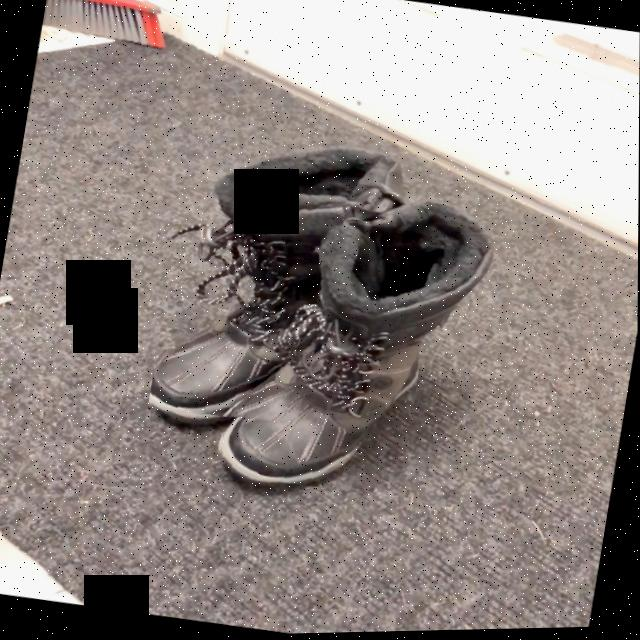shoe: (223, 330, 420, 484), (150, 262, 318, 414)
